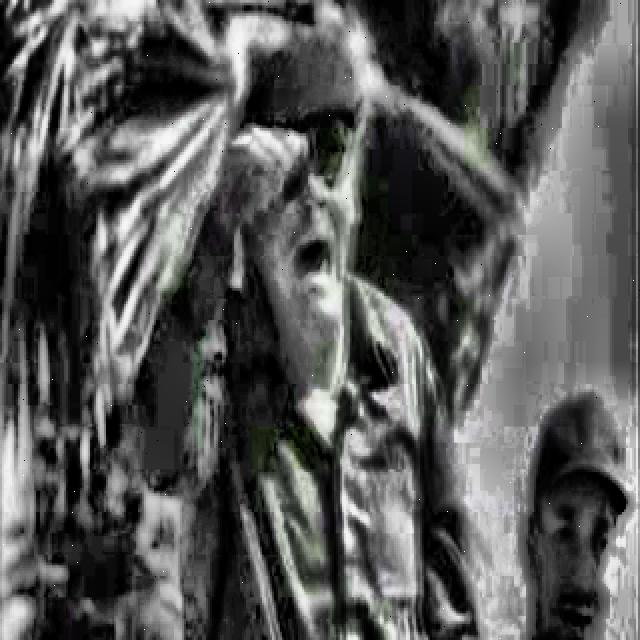T: (143, 22, 483, 638)
